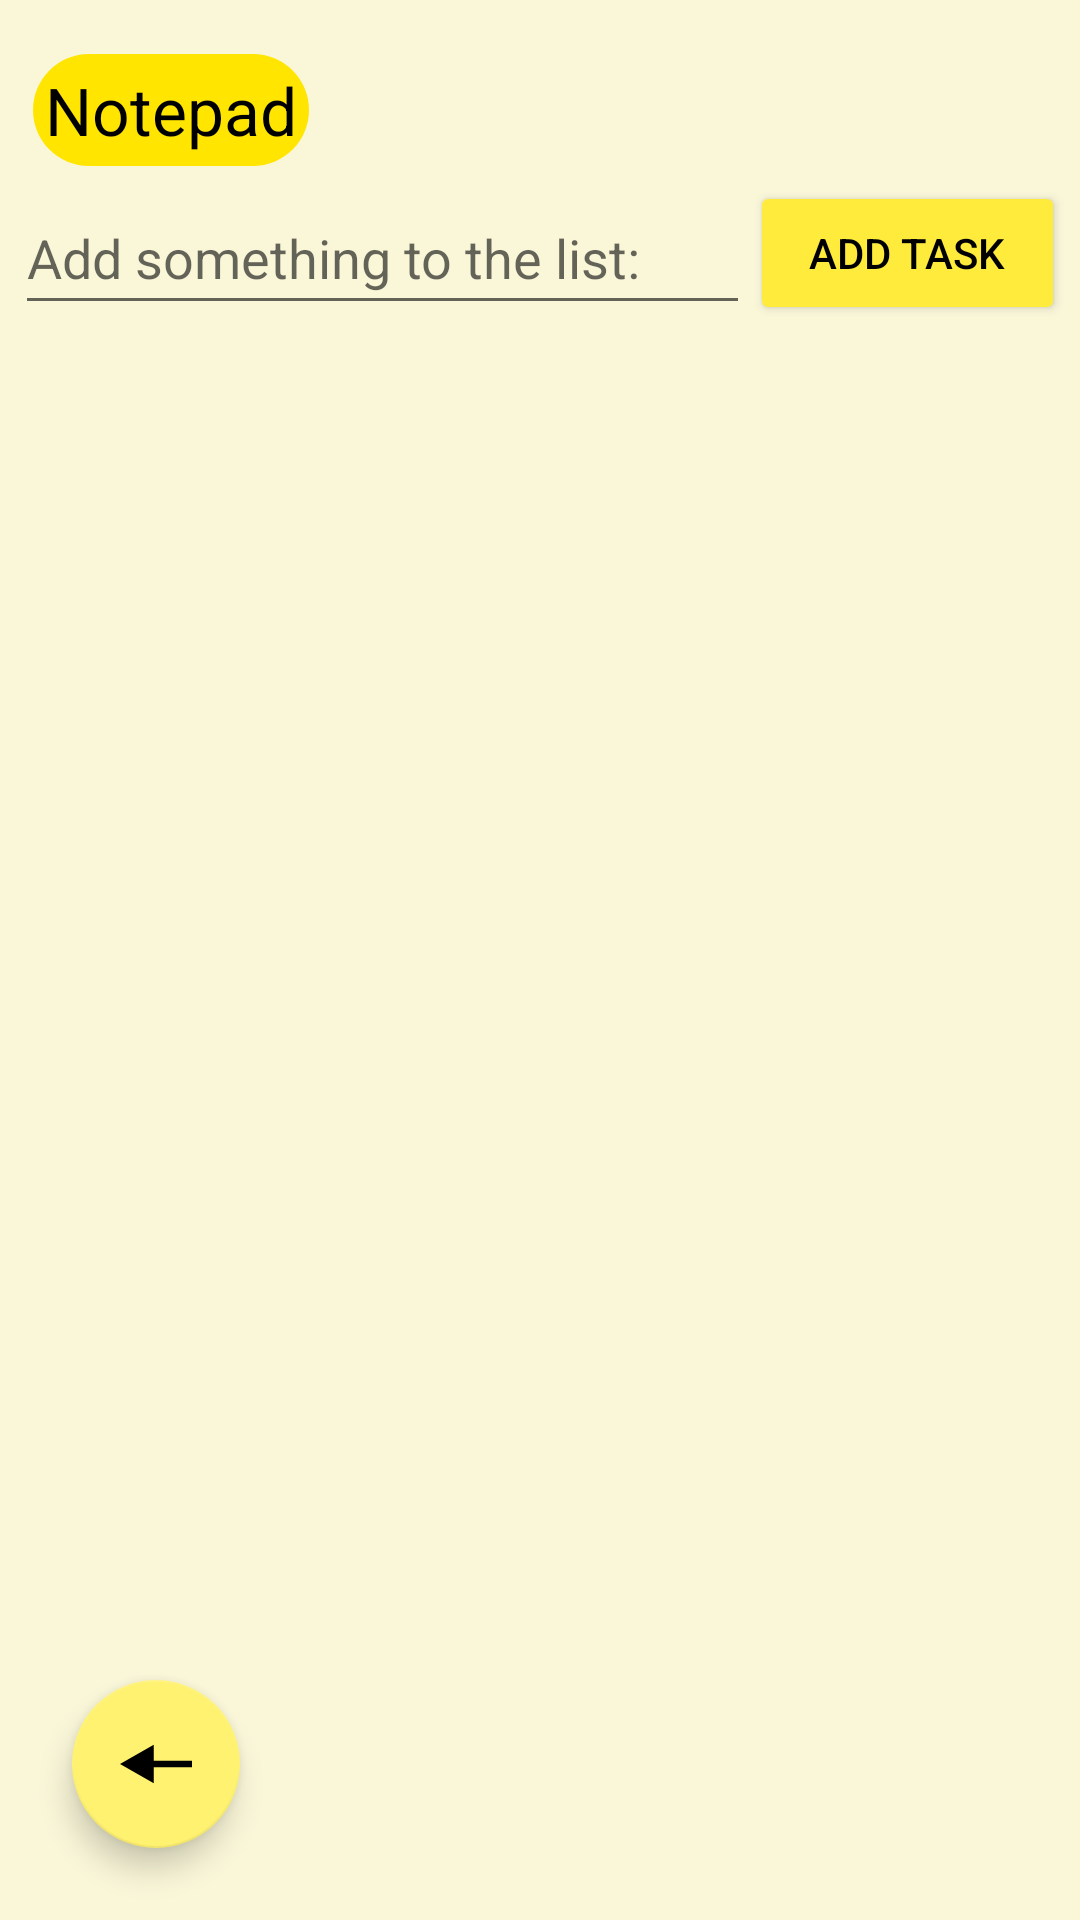

Icons on this 1080px×1920px Android screen, each with its box as Rect(x1, y1, x2, y2):
back arrow: Rect(72, 1680, 240, 1848)
